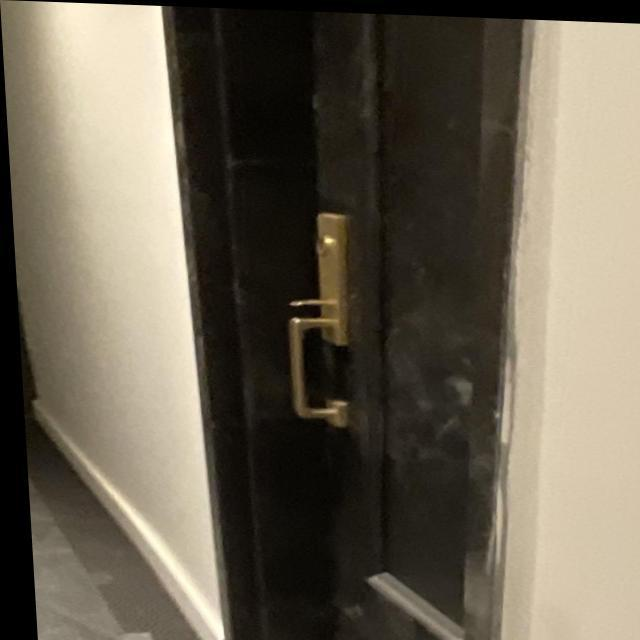door_handle: (270, 309, 364, 432)
